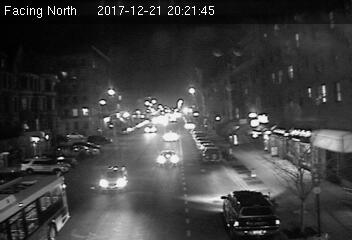car: (221, 189, 279, 235), (98, 165, 128, 192), (200, 146, 223, 166), (157, 149, 178, 165), (143, 123, 157, 133)
